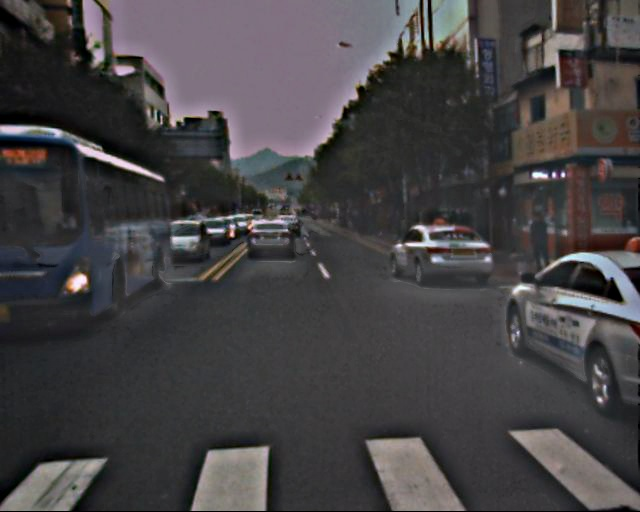person: (526, 212, 552, 276)
